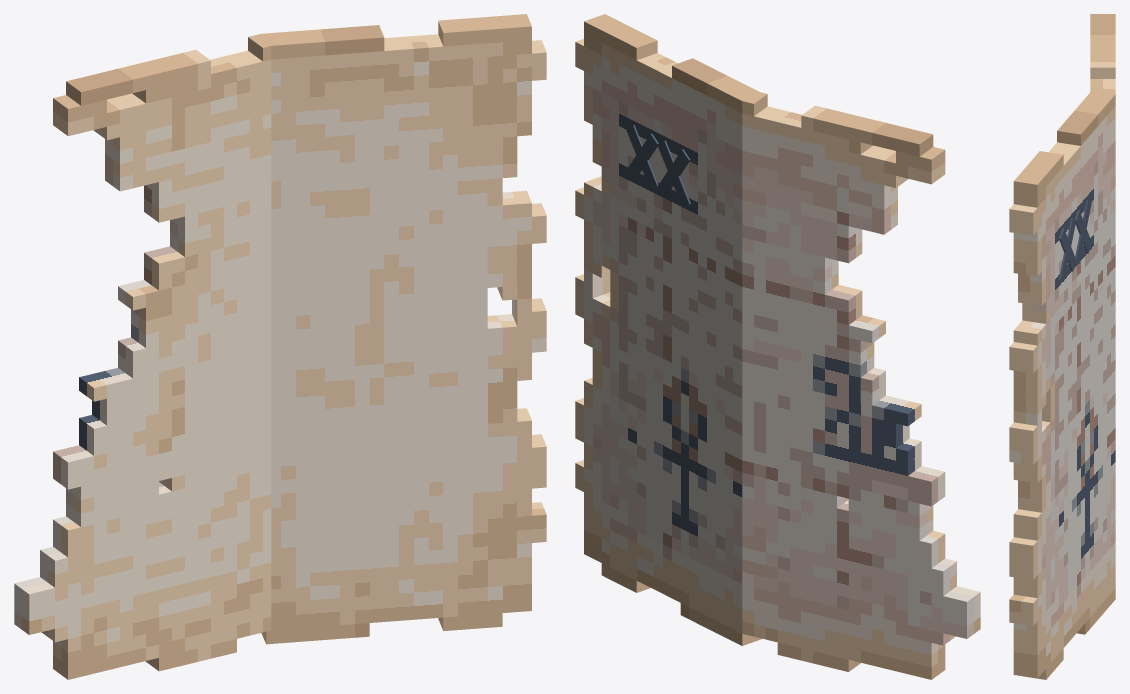
File: lost_page_08T_XX.gltf
3 views of the same model, side by side, from view 1: azimuth 30°, elevation 25°; view 2: azimuth 150°, elevation 25°; view 3: azimuth 270°, elevation 25° (orthographic). The views are drawn at different scales.
Parts seen in each view (by area): view 1: MapRight$$(2)-Local, MapCenter$$(2)-Local; view 2: MapCenter$$(2)-Local, MapRight$$(2)-Local, V01$$(1)-Local, V01-Local; view 3: MapRight$$(2)-Local, MapCenter$$(2)-Local, V01-Local, V01$$(1)-Local, V02-Local, V02$$(1)-Local.
Part boxes in pixels (left/top/right/bottom): MapRight$$(2)-Local: left=261, top=14, right=546, bottom=644; MapCenter$$(2)-Local: left=14, top=34, right=271, bottom=679; MapCenter$$(2)-Local: left=742, top=92, right=980, bottom=679; MapRight$$(2)-Local: left=575, top=14, right=762, bottom=645; V01$$(1)-Local: left=657, top=140, right=690, bottom=207; V01-Local: left=626, top=125, right=658, bottom=191; MapRight$$(2)-Local: left=1009, top=90, right=1115, bottom=679; MapCenter$$(2)-Local: left=1090, top=14, right=1115, bottom=94; V01-Local: left=1059, top=228, right=1076, bottom=271; V01$$(1)-Local: left=1075, top=210, right=1091, bottom=253; V02-Local: left=1059, top=218, right=1076, bottom=281; V02$$(1)-Local: left=1075, top=200, right=1091, bottom=263.
Size of the model in its own units: 36.85 by 44 by 8.38.
6 materials, 6 textured.
